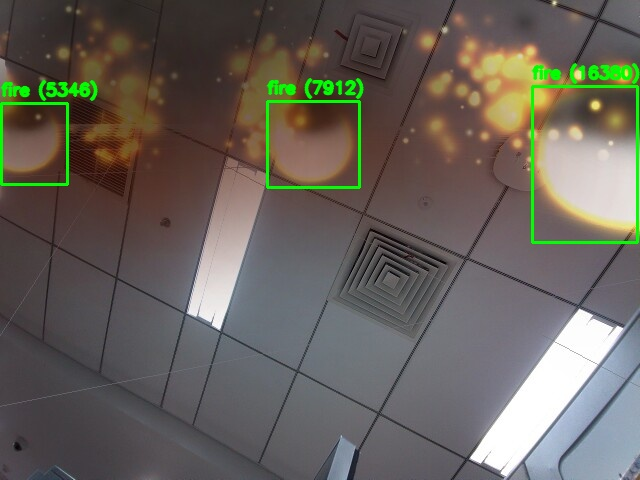fire: (532, 86, 637, 242), (267, 101, 359, 187), (1, 103, 67, 184)
